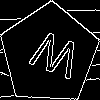W: (24, 29, 84, 89)
